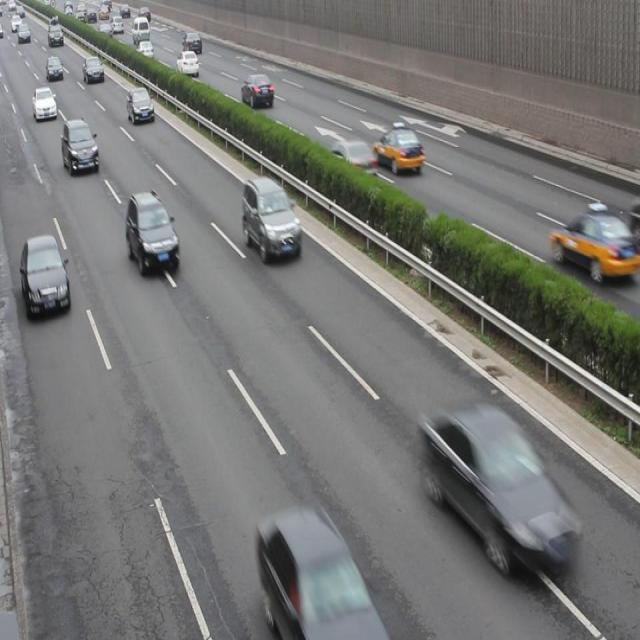car: (423, 404, 578, 574), (256, 507, 380, 640), (548, 207, 632, 285), (241, 174, 301, 262), (125, 191, 180, 280), (20, 234, 70, 319), (375, 126, 425, 178), (328, 134, 377, 185), (62, 117, 98, 176), (242, 70, 274, 111), (127, 85, 155, 128)
